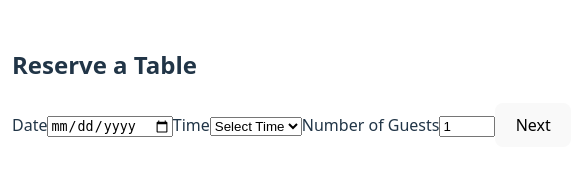
DateTimeSelector › shows error if fields are empty and next is clicked
Click the button "Next" at (533, 125), box x1=496 y1=103 x2=571 y2=146
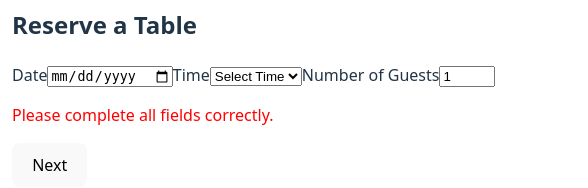
expect the text "Please complete all fields correctly." is shown: met, box x1=12 y1=104 x2=274 y2=126
